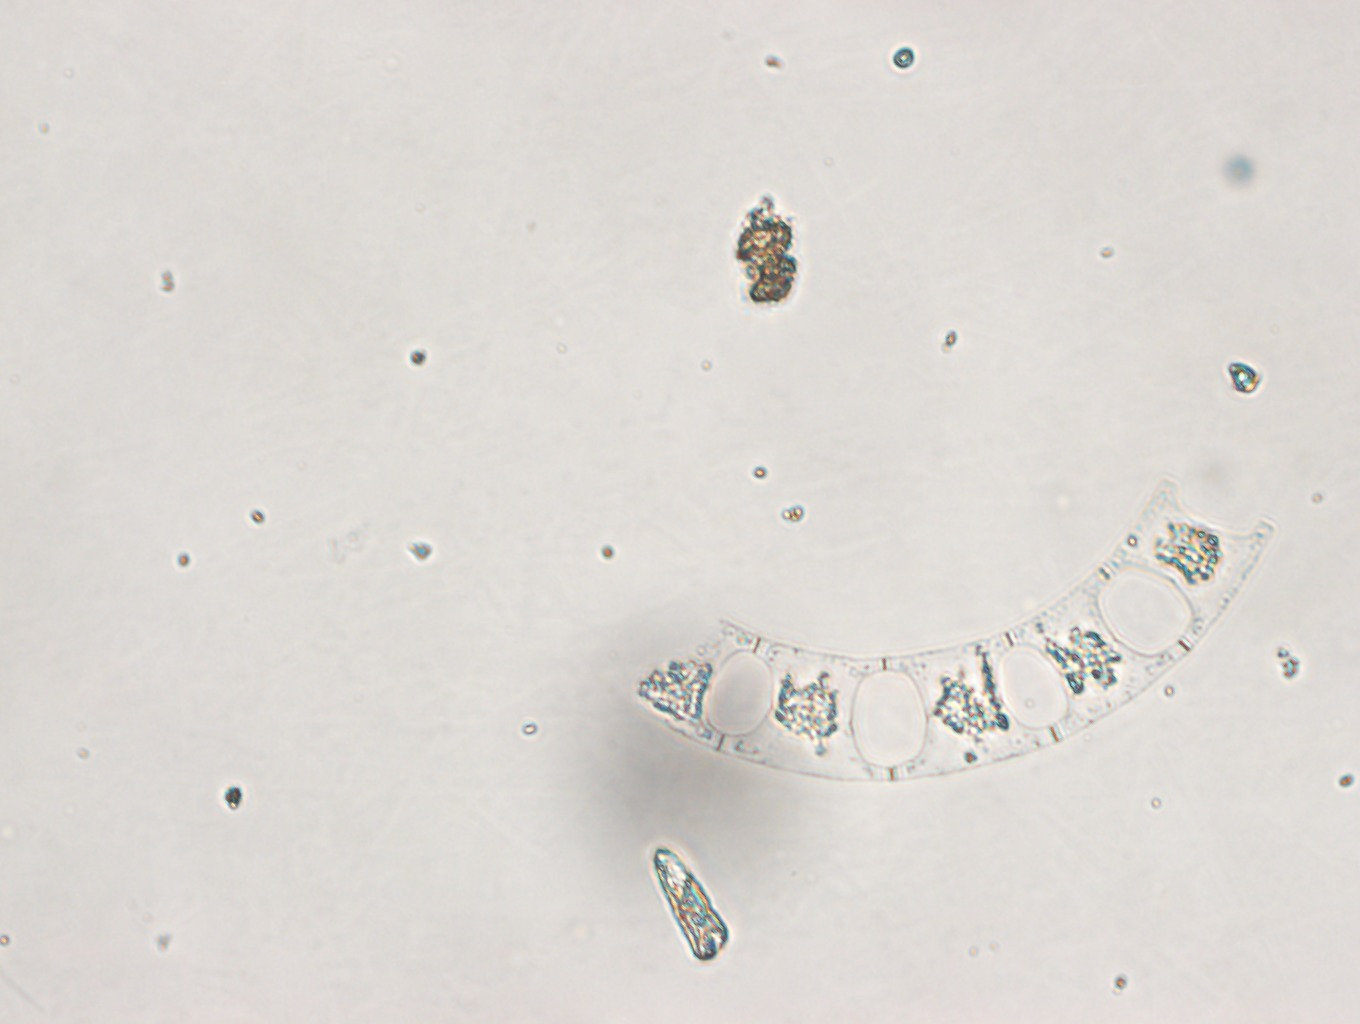eucampia: (644, 497, 1278, 784)
